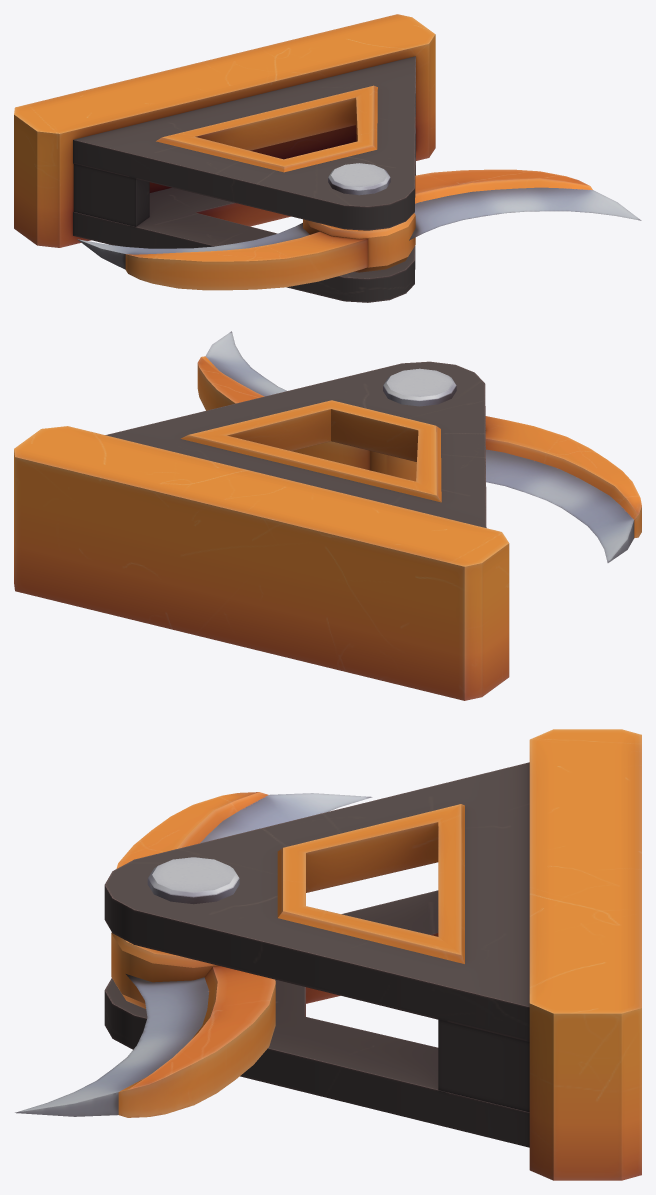
The model's file is front_spinner_2.fbx.
The picture shows the model from 3 angles, top to bottom: view 1: azimuth 30°, elevation 25°; view 2: azimuth 150°, elevation 25°; view 3: azimuth 270°, elevation 25°; orthographic projection. The views are drawn at different scales.
Visible parts, largest first — view 1: Cylinder.150, Cylinder.107; view 2: Cylinder.150, Cylinder.107; view 3: Cylinder.150, Cylinder.107.
Boxes of the visible parts, left/top/right/bottom form: Cylinder.150: left=14, top=14, right=435, bottom=302; Cylinder.107: left=77, top=163, right=641, bottom=290; Cylinder.150: left=14, top=361, right=509, bottom=700; Cylinder.107: left=197, top=331, right=641, bottom=562; Cylinder.150: left=104, top=729, right=641, bottom=1180; Cylinder.107: left=15, top=792, right=372, bottom=1117.
Size of the model in its own units: 203 by 50 by 170.
